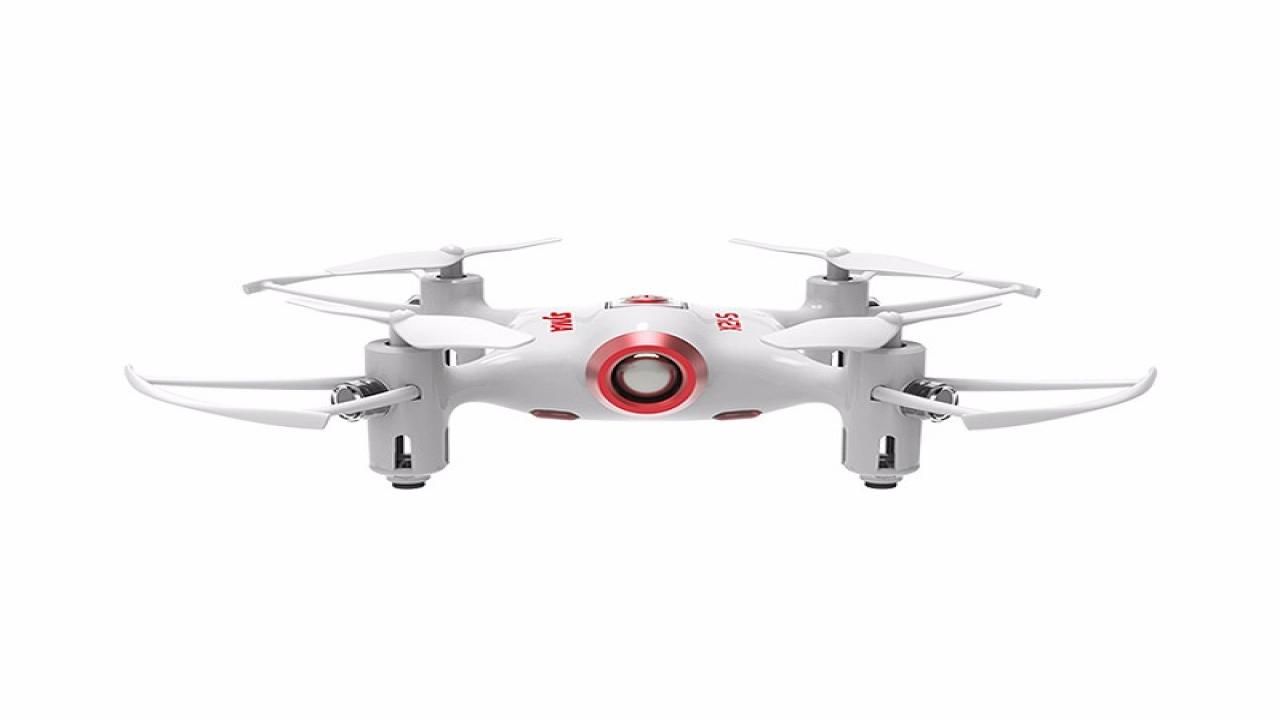Drone: (113, 228, 1166, 500)
